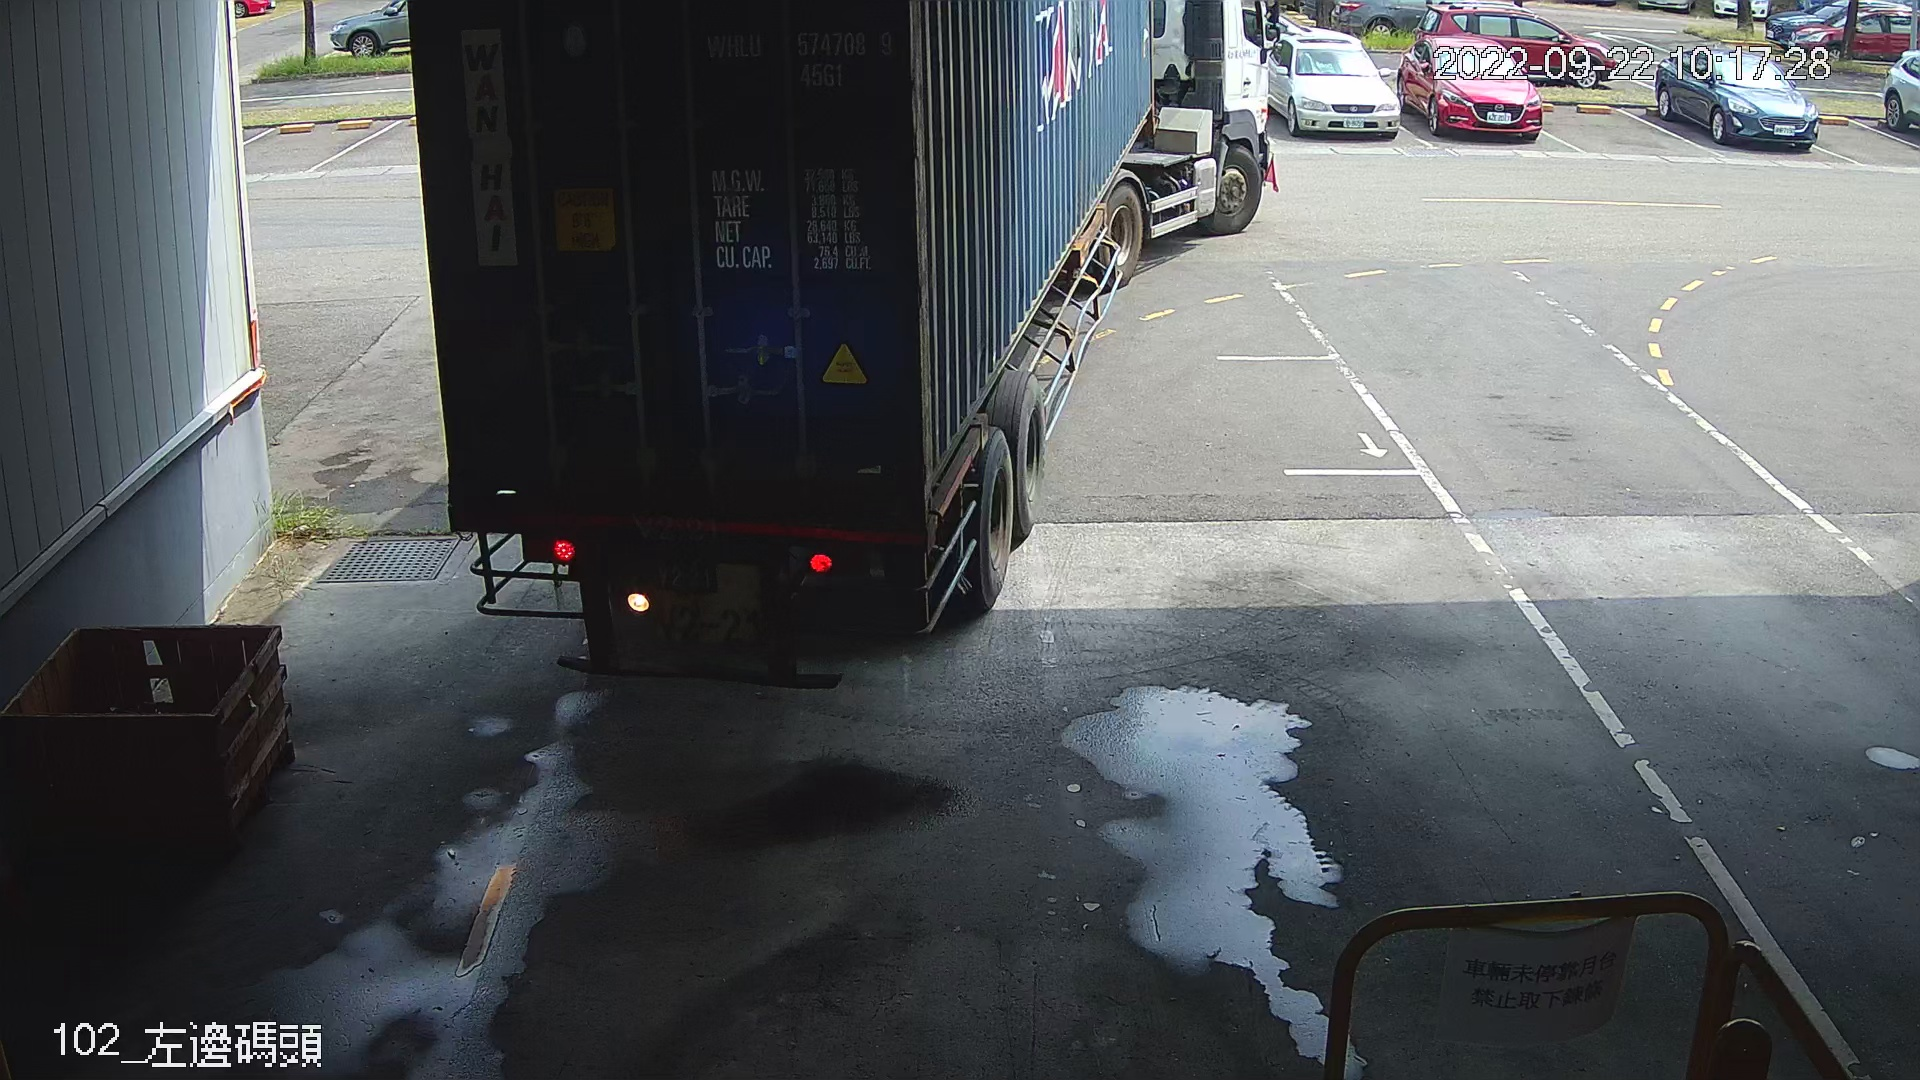container: (688, 20, 903, 99)
